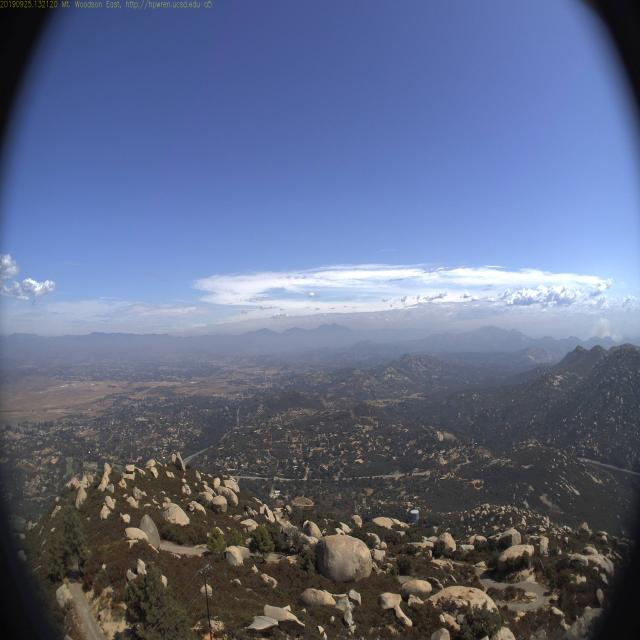smoke: (588, 314, 624, 344)
